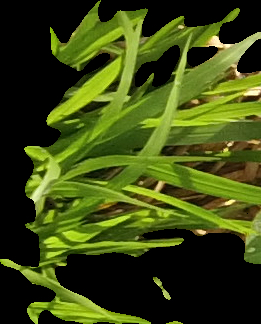grass: (1, 1, 260, 323)
